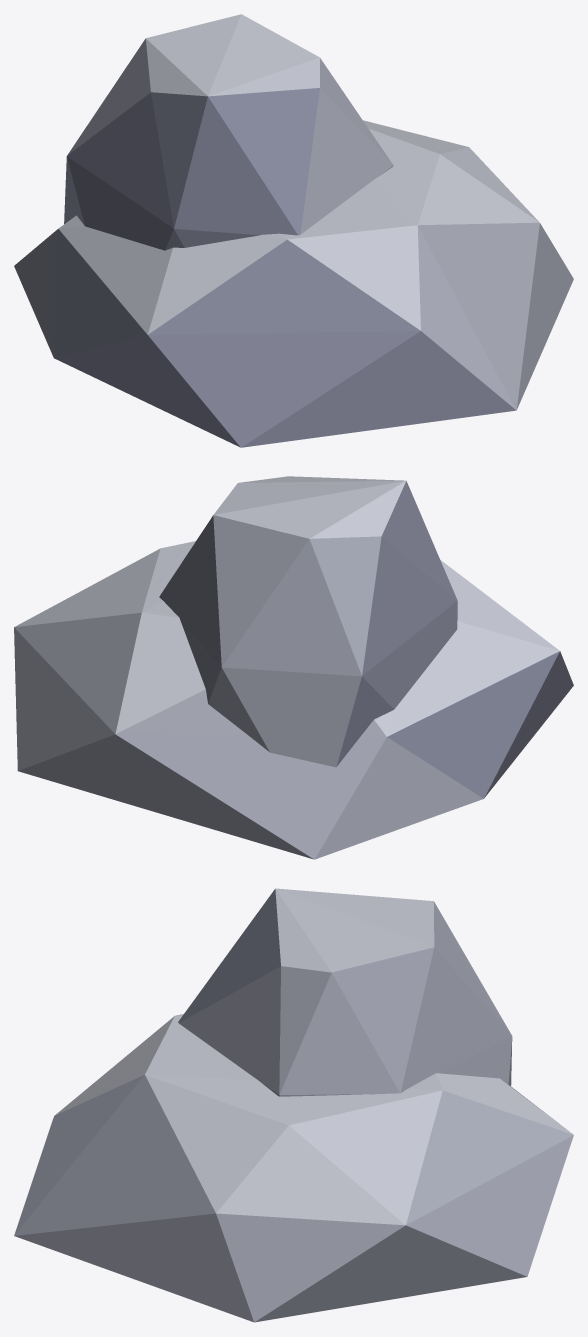
File: stone_smallTopB.glb
The picture shows the model from 3 angles, top to bottom: view 1: azimuth 30°, elevation 25°; view 2: azimuth 150°, elevation 25°; view 3: azimuth 270°, elevation 25°; orthographic projection.
Parts seen in each view (by area): view 1: stone_smallTopB; view 2: stone_smallTopB; view 3: stone_smallTopB.
Boxes of the visible parts, x1,y1,x2,y2 form: stone_smallTopB: (14, 14, 573, 447); stone_smallTopB: (14, 476, 573, 859); stone_smallTopB: (14, 888, 573, 1322).
Bounding box in the file's own units: 0.5205 × 0.2762 × 0.537.
1 material, 1 textured.
